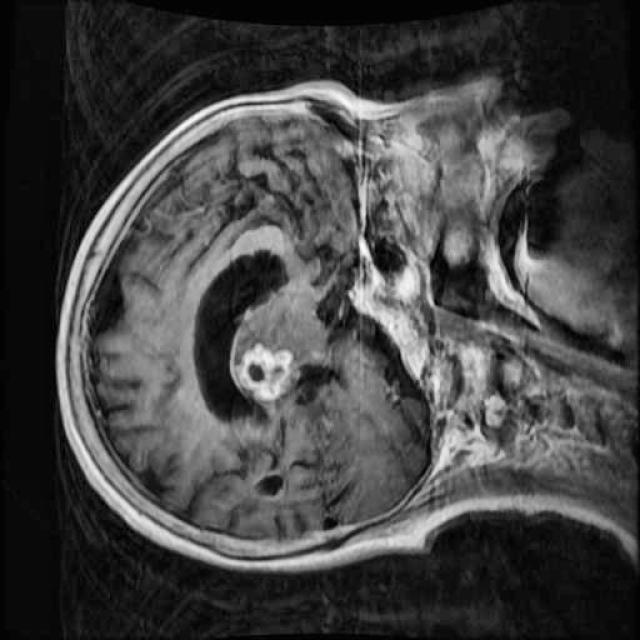Tumor: (226, 333, 310, 415)
